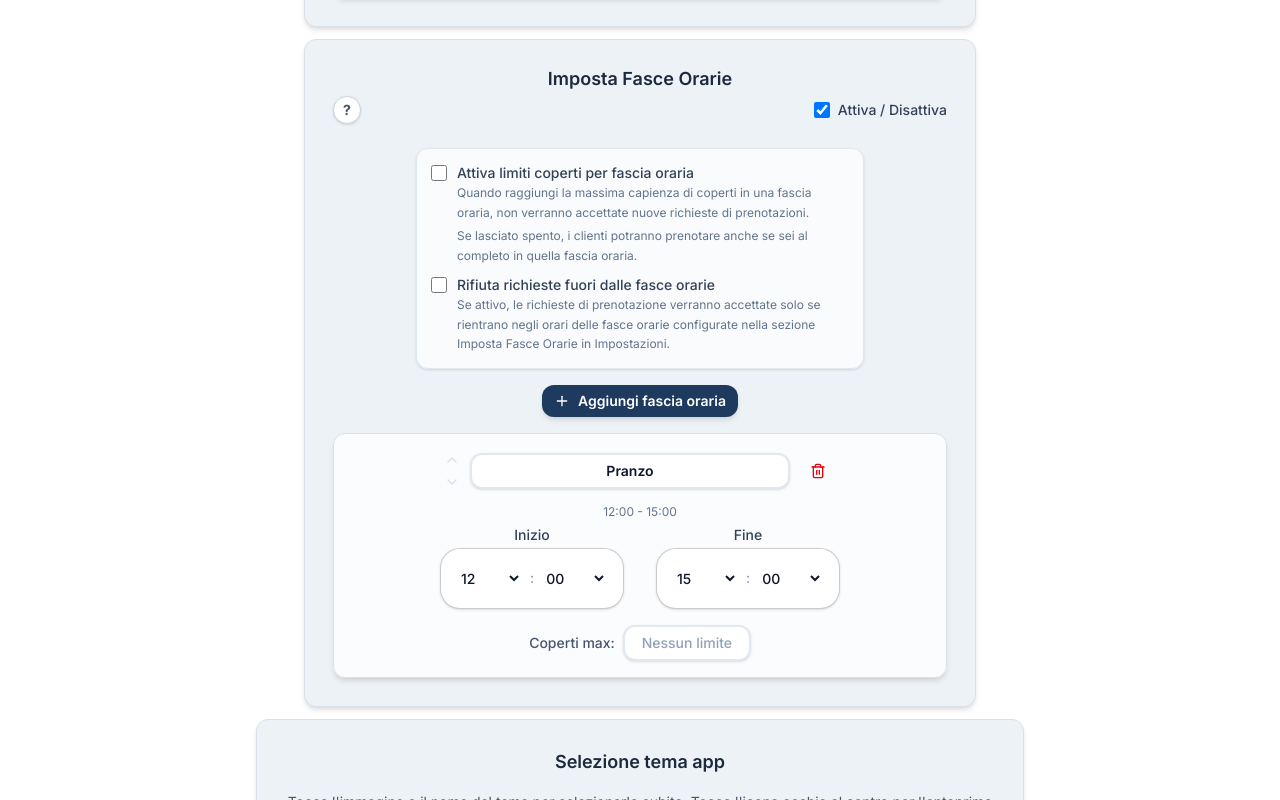
Test: settings-time-slots M4 — fasce Classic in RestaurantSettingsTab › aggiunge fascia valida con il pulsante Aggiungi fascia oraria
(page scrolled)
Expected: the field named "nome fascia 1" is shown, [470,453,790,489]
Click the button "Aggiungi fascia oraria" at (640, 401), box [542,385,738,417]
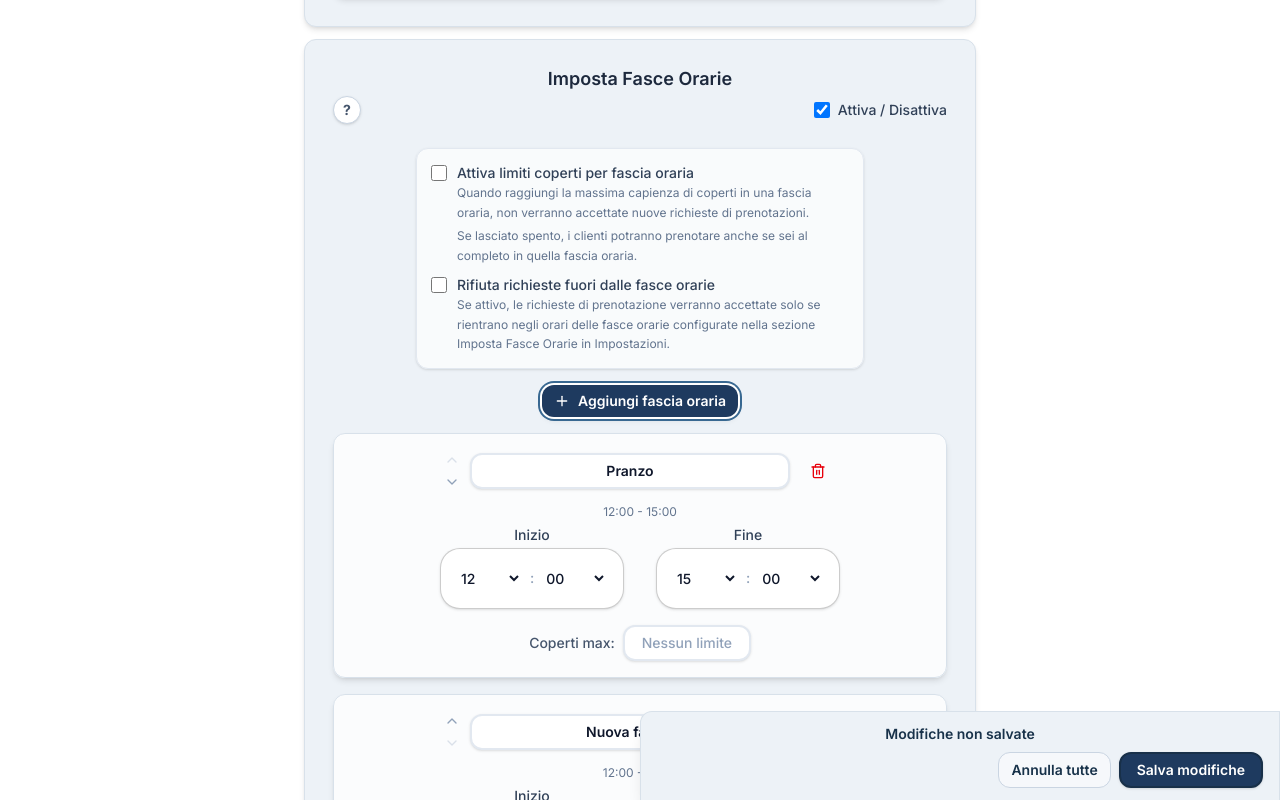
Expected: the field named "nome fascia 2" holds "Nuova fascia", [470,714,790,750]
Expected: the element "Modifiche non salvate Annulla tutte Salva modifiche" is shown, [640,712,1279,799]
